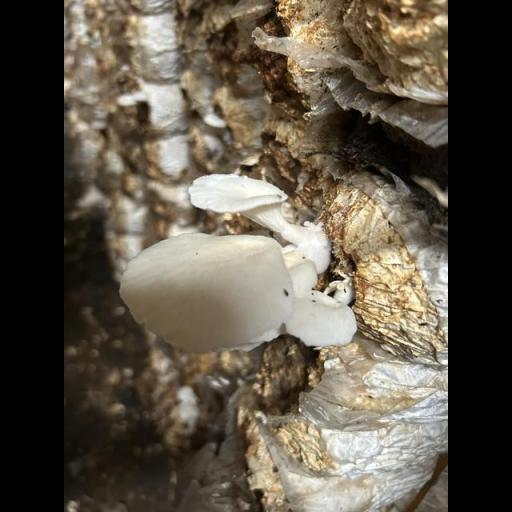White Oyster Mushroom: (112, 171, 372, 367)
